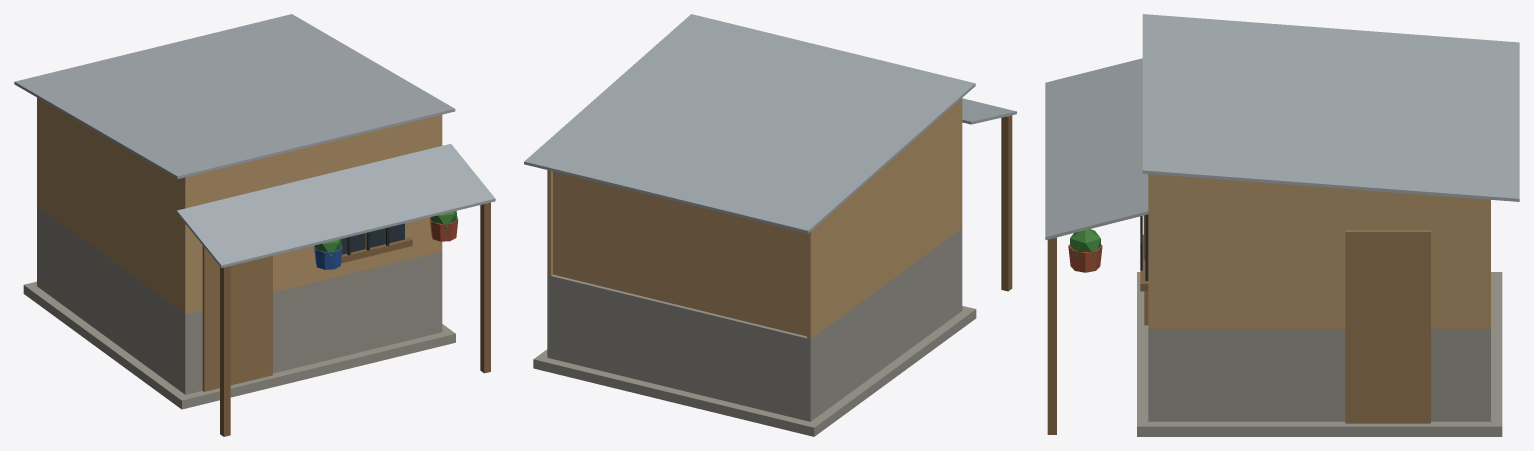
File: BAY_I_SariSari_Q.glb
3 renders of one model, left to right at view 1: azimuth 30°, elevation 25°; view 2: azimuth 150°, elevation 25°; view 3: azimuth 270°, elevation 25°, orthographic. The views are drawn at different scales.
Parts seen in each view (by area): view 1: BAY_I_SariSari_Q; view 2: BAY_I_SariSari_Q; view 3: BAY_I_SariSari_Q.
Boxes of the visible parts, x1,y1,x2,y2 form: BAY_I_SariSari_Q: (14, 14, 495, 436); BAY_I_SariSari_Q: (524, 14, 1016, 436); BAY_I_SariSari_Q: (1045, 14, 1519, 436).
Size of the model in its own units: 3.24 by 2.58 by 4.15.
1 material, 1 textured.
